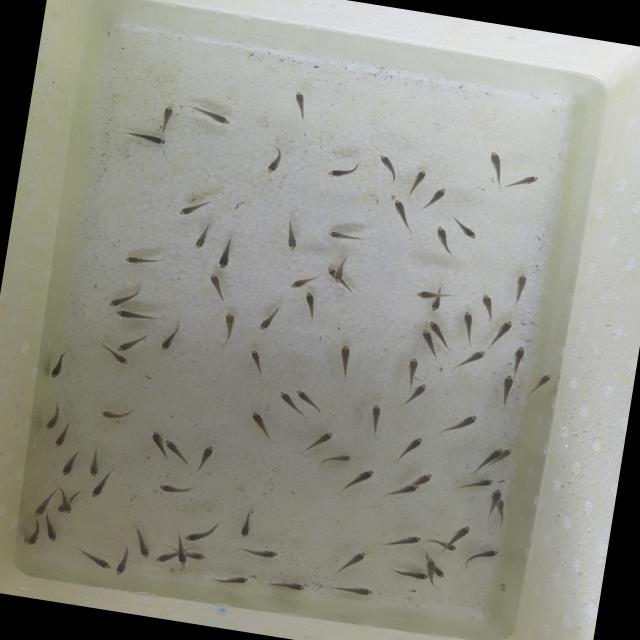fingerling: (499, 168, 547, 202), (283, 86, 318, 130), (340, 462, 378, 500), (217, 308, 249, 352), (123, 125, 178, 150), (256, 143, 293, 180), (462, 542, 503, 575), (298, 423, 339, 456), (188, 102, 236, 130), (440, 408, 482, 440), (376, 528, 424, 556), (273, 216, 307, 254), (320, 157, 364, 186), (330, 340, 360, 382), (394, 432, 428, 469), (452, 344, 488, 378), (336, 544, 370, 580), (121, 246, 168, 272), (182, 518, 222, 548), (213, 228, 239, 274), (322, 227, 374, 250), (244, 407, 276, 444), (189, 440, 220, 478), (105, 282, 144, 312), (494, 372, 520, 416), (488, 316, 518, 354), (45, 346, 74, 384), (386, 195, 416, 231), (372, 150, 402, 186), (73, 546, 114, 572), (202, 270, 231, 306), (316, 448, 356, 474), (176, 195, 214, 222), (507, 267, 532, 308), (401, 167, 432, 200), (526, 368, 556, 402), (482, 145, 508, 184), (456, 307, 482, 346), (96, 402, 140, 425), (211, 569, 255, 592), (452, 471, 496, 494), (328, 580, 378, 600), (298, 290, 325, 326), (236, 541, 282, 562), (363, 400, 389, 437), (420, 186, 450, 218), (116, 328, 150, 356), (129, 526, 157, 560), (187, 222, 216, 254), (245, 347, 272, 381), (506, 341, 532, 376), (266, 574, 311, 594), (428, 224, 456, 256), (152, 478, 196, 498), (158, 321, 183, 356), (82, 441, 105, 478), (452, 216, 482, 244), (474, 288, 502, 318), (234, 506, 257, 542), (58, 445, 82, 479), (256, 304, 282, 334), (386, 480, 421, 502), (112, 544, 134, 578), (114, 308, 160, 324), (446, 520, 472, 548), (401, 353, 422, 386), (157, 102, 179, 132), (86, 475, 110, 502), (388, 566, 428, 582), (52, 424, 74, 452), (146, 428, 168, 456), (288, 272, 316, 293), (42, 406, 64, 432), (40, 520, 63, 544), (105, 350, 135, 368), (24, 522, 44, 549), (409, 382, 428, 410), (164, 438, 186, 457), (276, 388, 296, 408), (152, 551, 175, 567), (414, 326, 434, 343), (415, 469, 434, 486), (412, 286, 432, 302), (188, 549, 210, 563), (428, 297, 445, 315), (293, 388, 314, 402), (31, 502, 47, 519), (488, 484, 504, 500), (427, 319, 444, 334), (424, 556, 436, 574), (330, 272, 345, 286), (490, 446, 504, 461), (176, 553, 190, 567), (62, 502, 75, 516), (434, 568, 447, 580), (502, 446, 514, 459), (448, 543, 458, 553)
